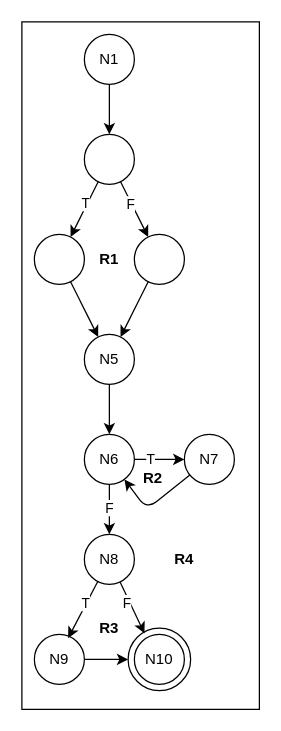
The diagram is 281 pixels wide and 731 high, and some of its shapes have lost their labels. Each missing label, with the box of its shape:
N2: (83, 133, 134, 184)
N3: (33, 233, 84, 284)
N4: (133, 233, 184, 284)
